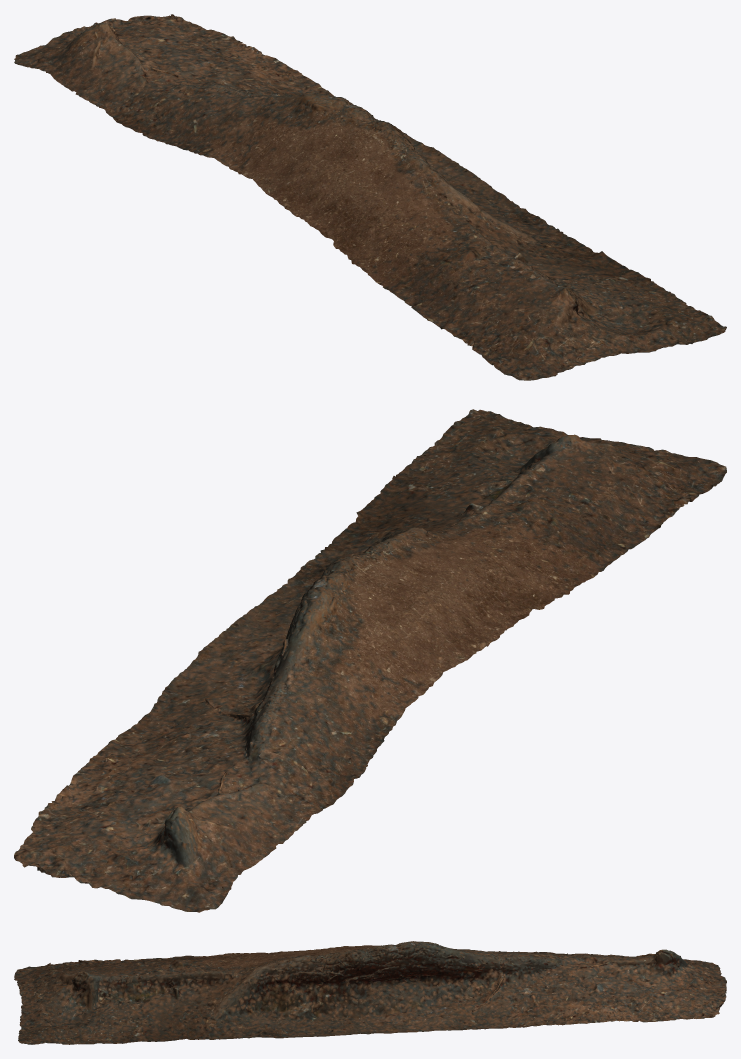
Rendered from single_root.glb.
The picture shows the model from 3 angles, top to bottom: view 1: azimuth 30°, elevation 25°; view 2: azimuth 150°, elevation 25°; view 3: azimuth 270°, elevation 25°; orthographic projection. The views are drawn at different scales.
Parts seen in each view (by area): view 1: single_root; view 2: single_root; view 3: single_root.
Part boxes in pixels (x1=…): single_root: x1=14, y1=14, x2=726, y2=380; single_root: x1=14, y1=409, x2=726, y2=912; single_root: x1=14, y1=941, x2=726, y2=1044.
Bounding box in the file's own units: 0.5552 × 0.1779 × 1.84.
1 material, 1 textured.
